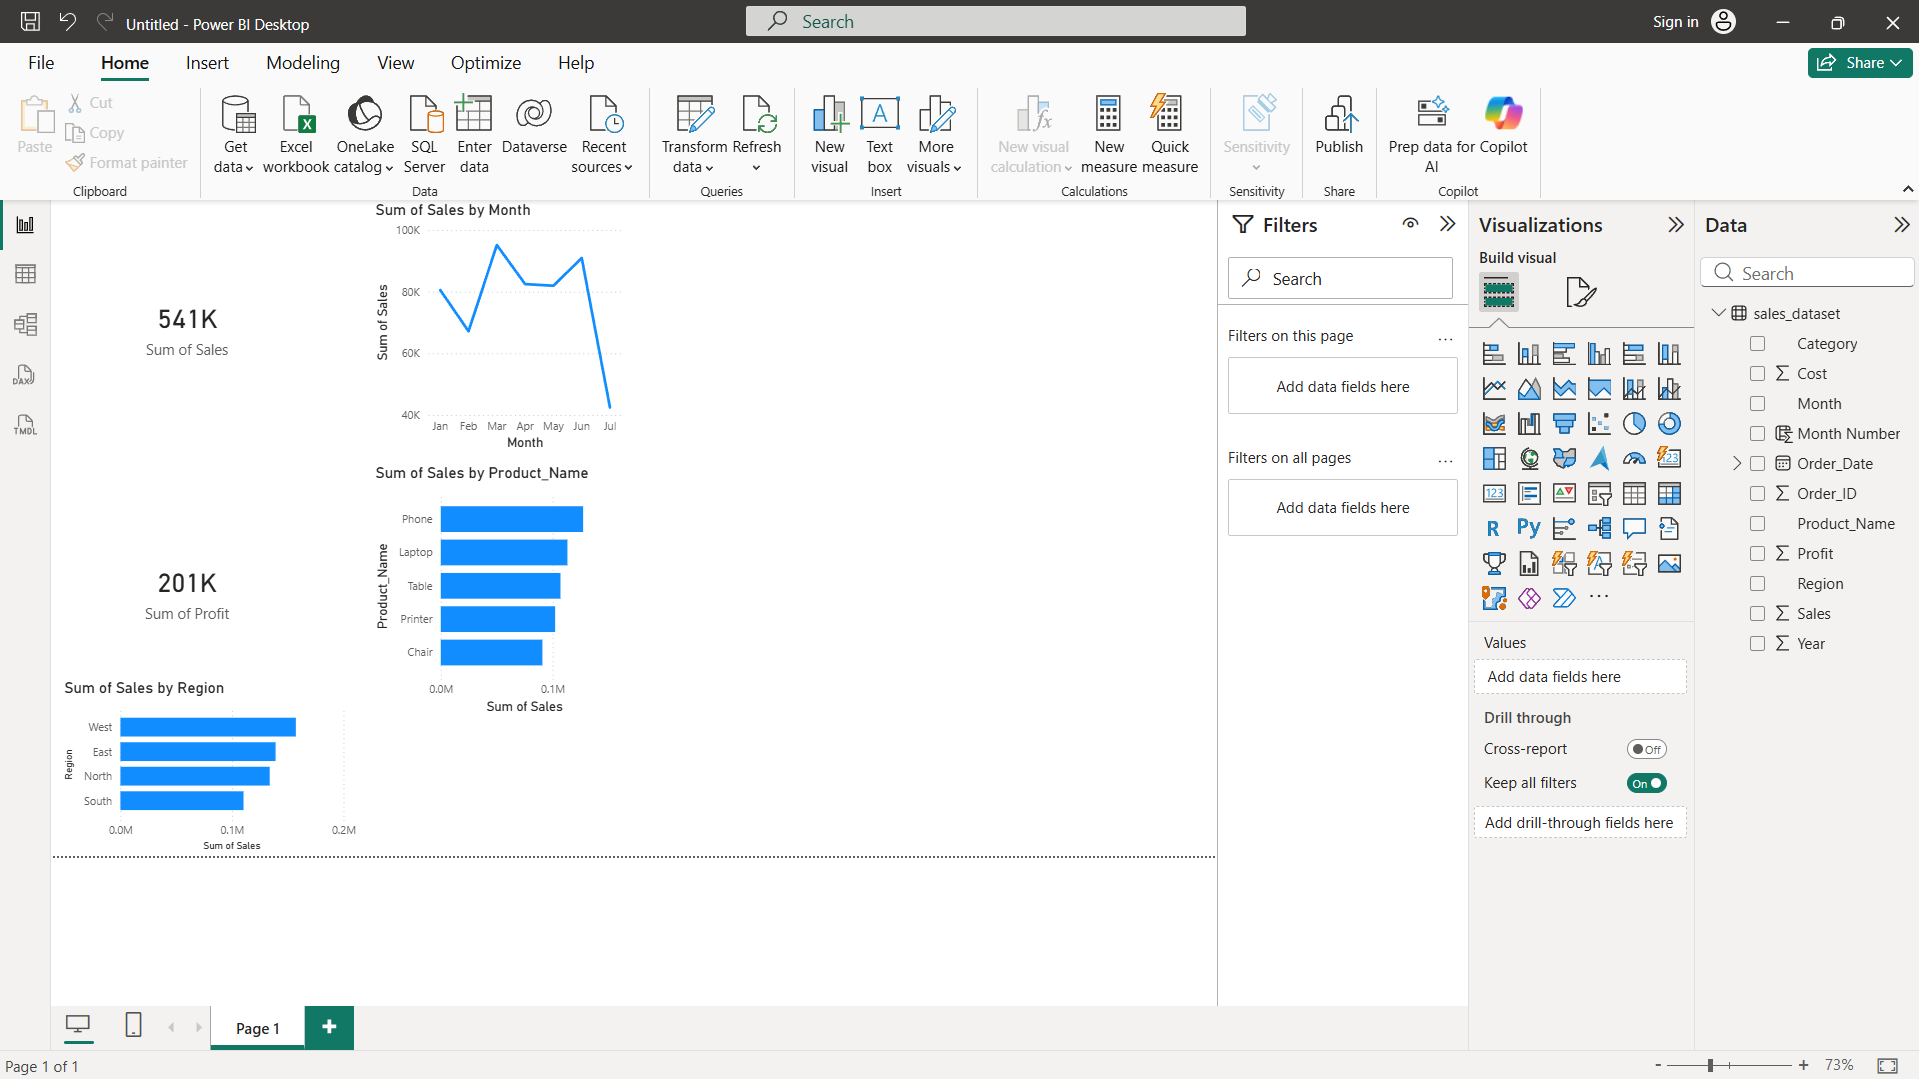

What the dashboard file says about the page in this screenshot:
{"tool":"powerbi","page":{"name":"Page 1","canvas":[1280,720],"ordinal":0},"visuals":[{"type":"card","fields":{"Values":["Sum(sales_dataset.Sales)"]},"box":[9.6,0,279.9,279.9],"z":0},{"type":"card","fields":{"Values":["Sum(sales_dataset.Profit)"]},"box":[10,290,280,280],"z":1000},{"type":"clusteredBarChart","fields":{"Category":["sales_dataset.Region"],"Y":["Sum(sales_dataset.Sales)"]},"box":[9.6,525.6,330.7,194.9],"z":2000},{"type":"lineChart","fields":{"Category":["sales_dataset.Month"],"Y":["Sum(sales_dataset.Sales)"]},"box":[351,0,280,280],"z":3000},{"type":"clusteredBarChart","fields":{"Category":["sales_dataset.Product_Name"],"Y":["Sum(sales_dataset.Sales)"]},"box":[351,290,280,280],"z":3001}]}

Visuals, with their boxes on the page's 1280x720 design canvas (x1, y1, x2, y2). These are canvas units, not pixel positions in the 1919x1079 screenshot, which may show the page scaled, cropped or inside an application window:
card - Sum(sales_dataset.Sales): rect(10, 0, 290, 280)
card - Sum(sales_dataset.Profit): rect(10, 290, 290, 570)
clusteredBarChart - sales_dataset.Region x Sum(sales_dataset.Sales): rect(10, 526, 340, 720)
lineChart - sales_dataset.Month x Sum(sales_dataset.Sales): rect(351, 0, 631, 280)
clusteredBarChart - sales_dataset.Product_Name x Sum(sales_dataset.Sales): rect(351, 290, 631, 570)
